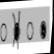correct: (38, 18, 48, 40)
not correct: (7, 8, 22, 52)
